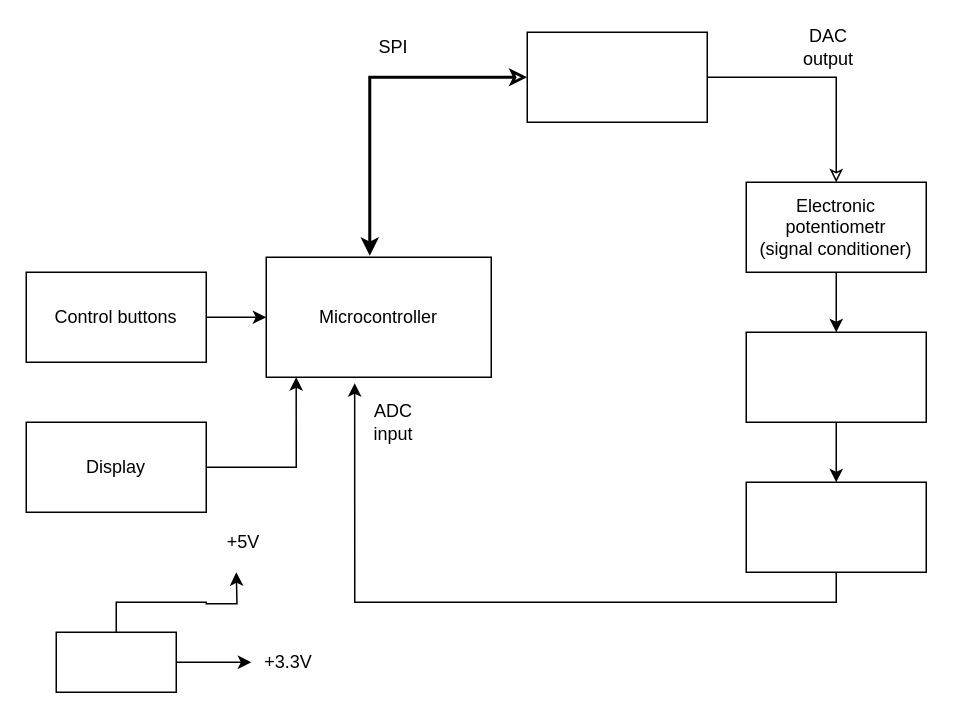
Image size: 953x719. Some labels were removed from this diagram. Each missing label, with the centre of its shape:
Fullwave rectifier: the point at 835,376
Peak detector: the point at 835,526
Power supply: the point at 115,661
WT588D-16P: the point at 616,76
